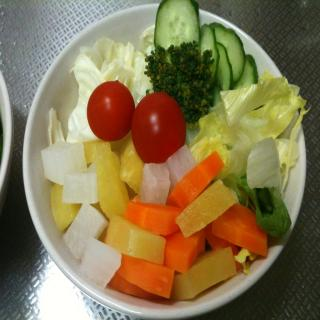tomato: (131, 91, 186, 162), (86, 79, 136, 141)
